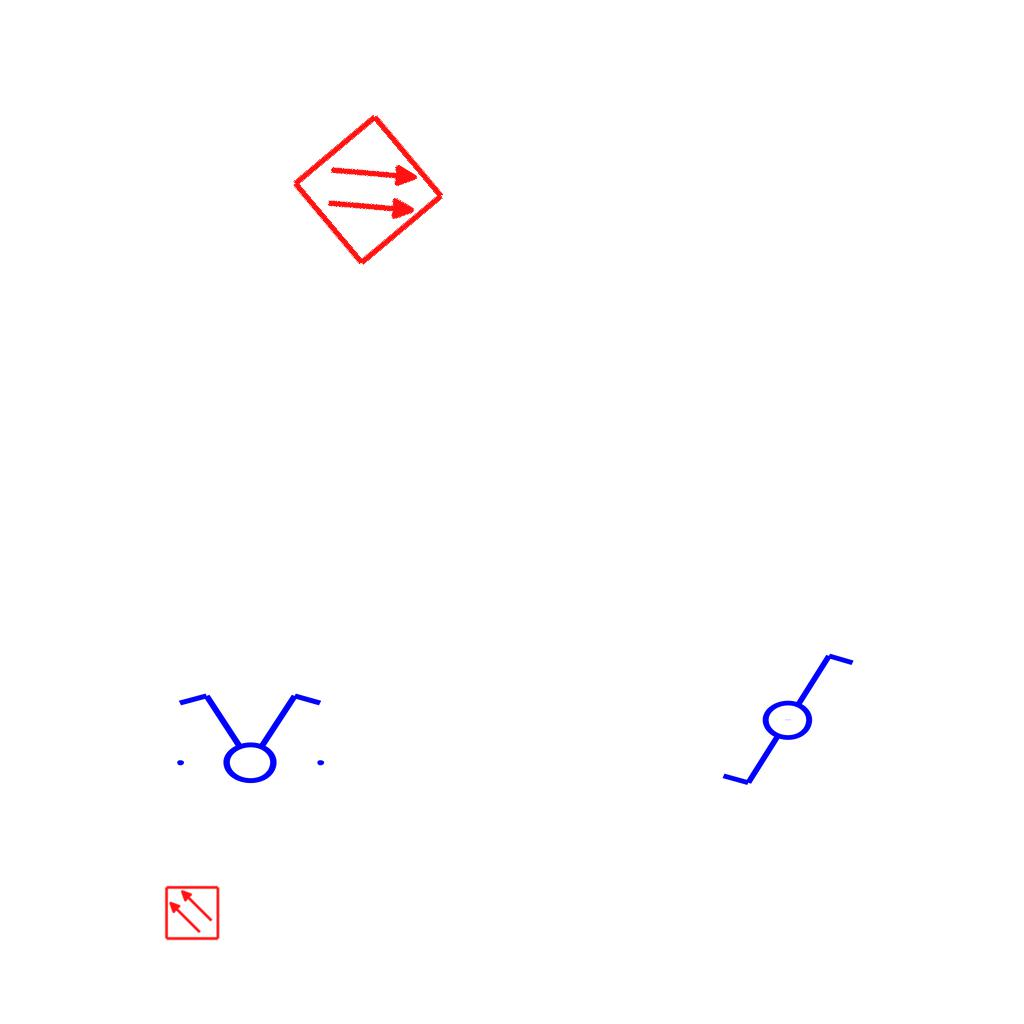RMO_Rauchmelder_optischer: (288, 109, 449, 270), (164, 885, 220, 941)
Serienschalter: (165, 689, 333, 785)
Wechselschalter: (701, 646, 858, 790)
